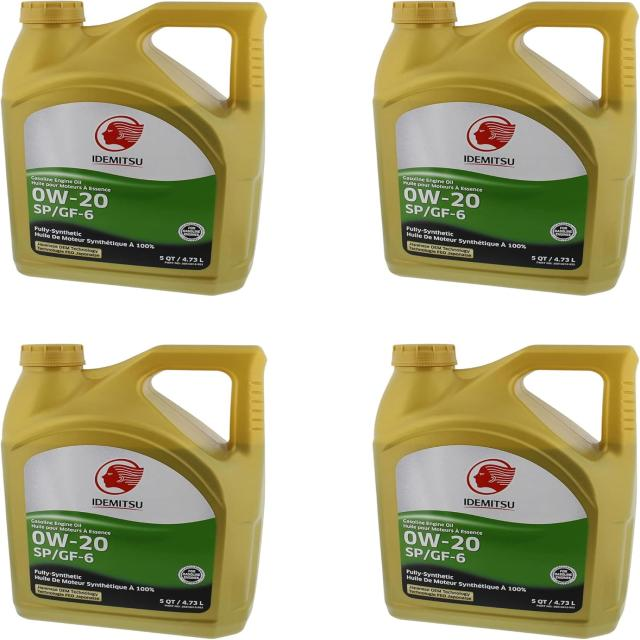motor_oil: (0, 2, 283, 303), (0, 337, 276, 640), (368, 335, 640, 640), (367, 1, 640, 299)
